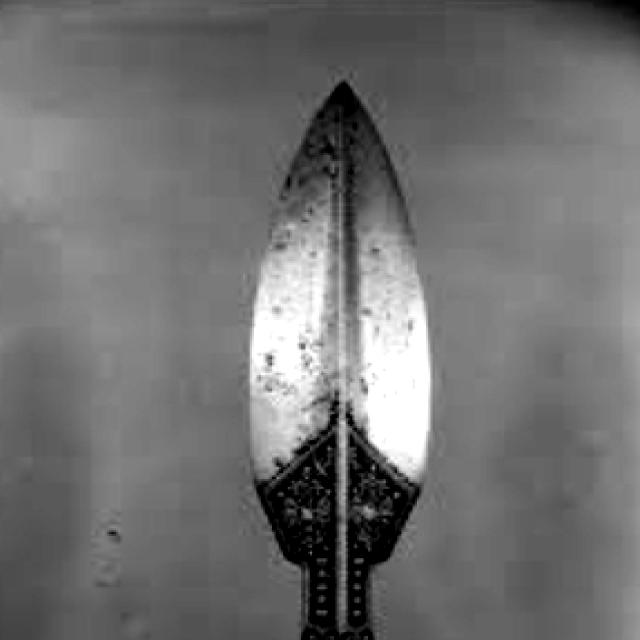spear: (238, 63, 441, 633)
